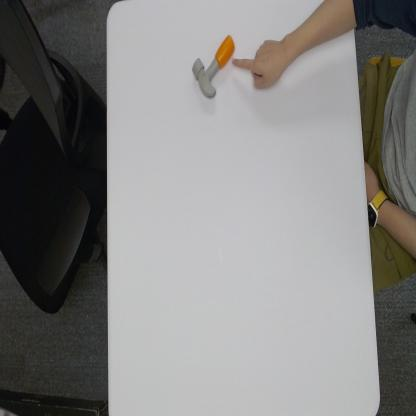Arm: (285, 0, 354, 68)
Hammer: (192, 34, 234, 100)
Hand: (231, 39, 285, 88)
